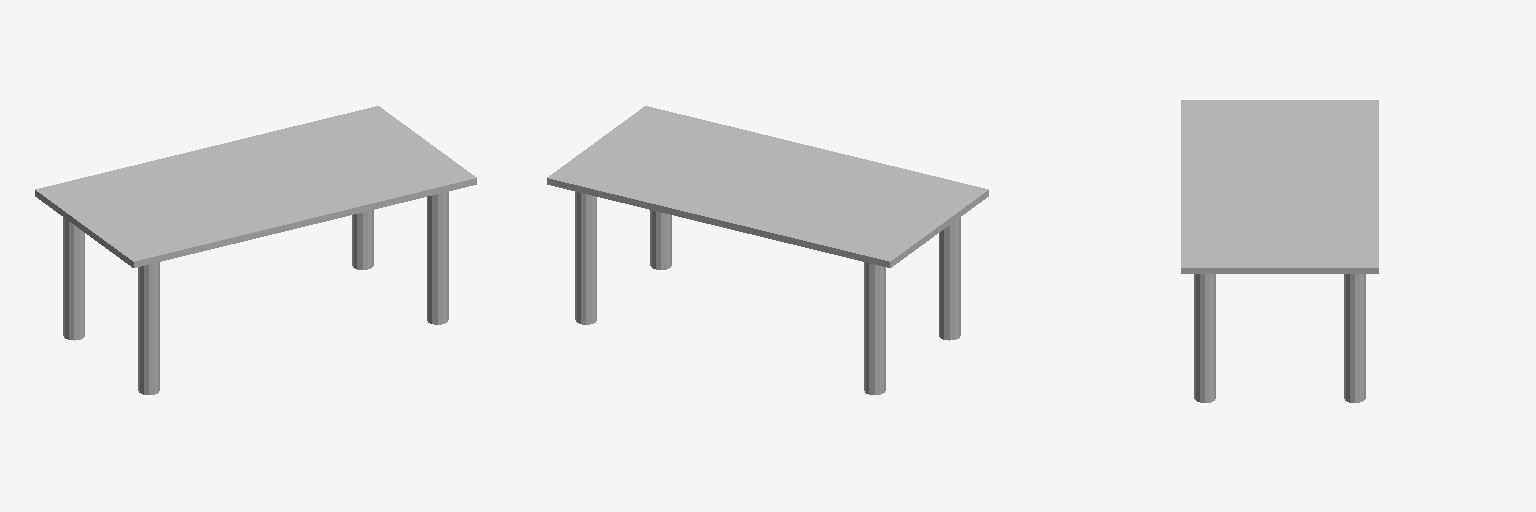
Rendered from table_1.obj.
3 renders of one model, left to right at view 1: azimuth 30°, elevation 25°; view 2: azimuth 150°, elevation 25°; view 3: azimuth 270°, elevation 25°, orthographic.
Parts seen in each view (by area): view 1: table_Circle; view 2: table_Circle; view 3: table_Circle.
Part boxes in pixels (x1,y1,x2,y2): table_Circle: (35,106,476,394); table_Circle: (547,106,988,394); table_Circle: (1181,100,1378,402).
Bounding box in the file's own units: 11.02 × 4.42 × 5.48.